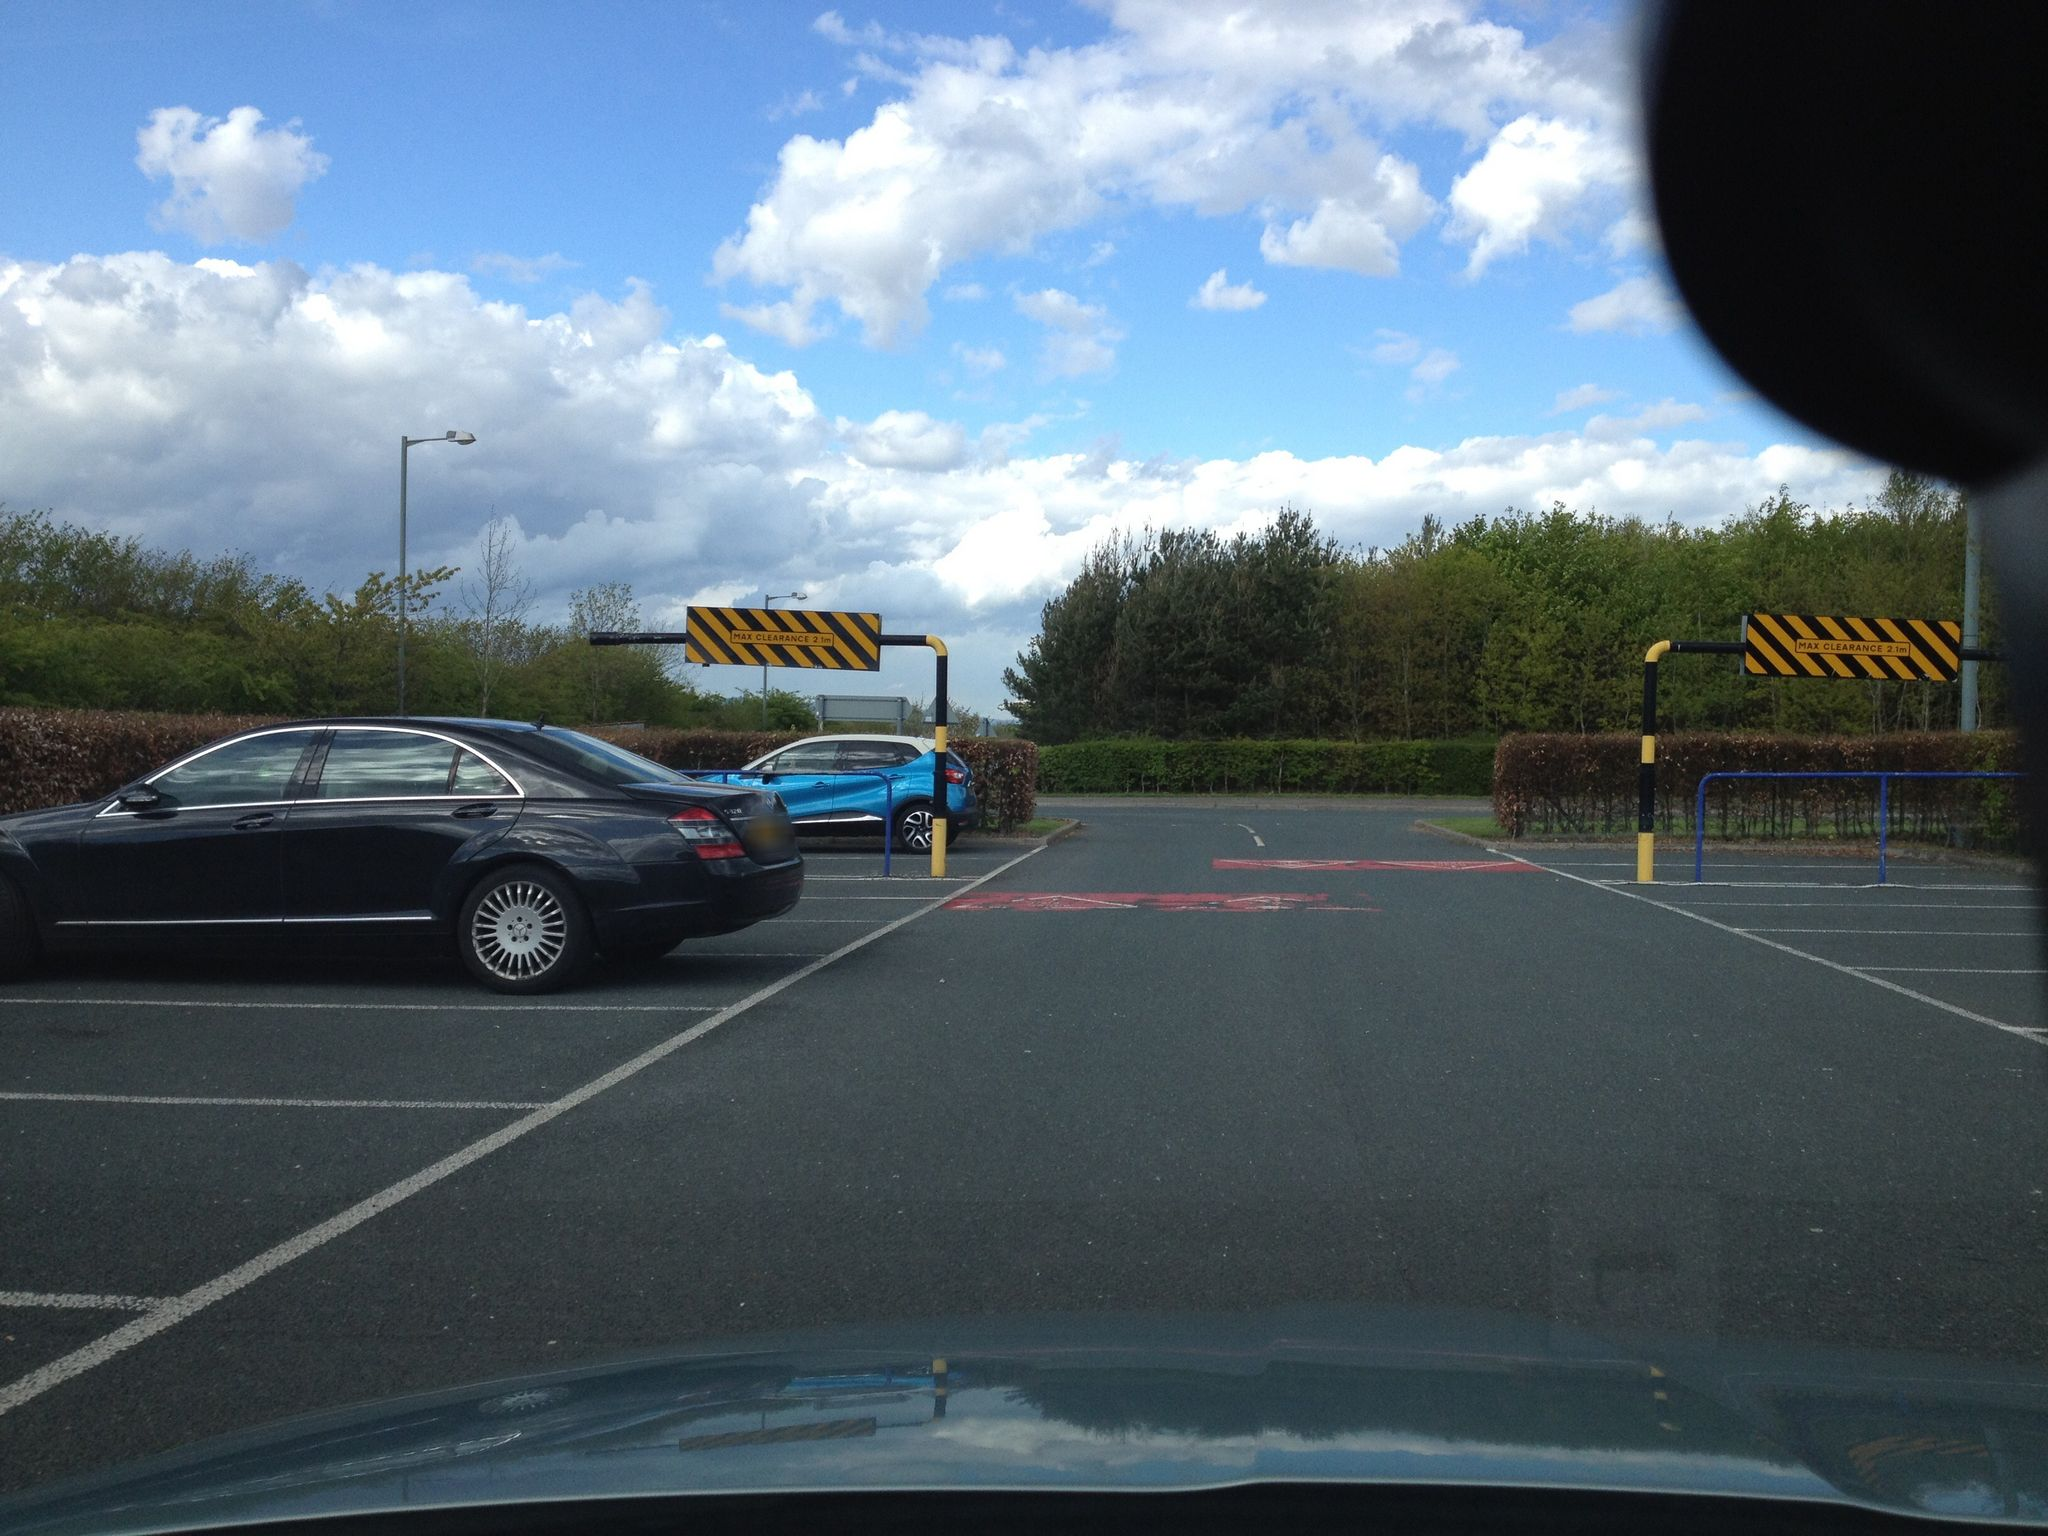car: (2, 703, 810, 991), (672, 734, 980, 854)
